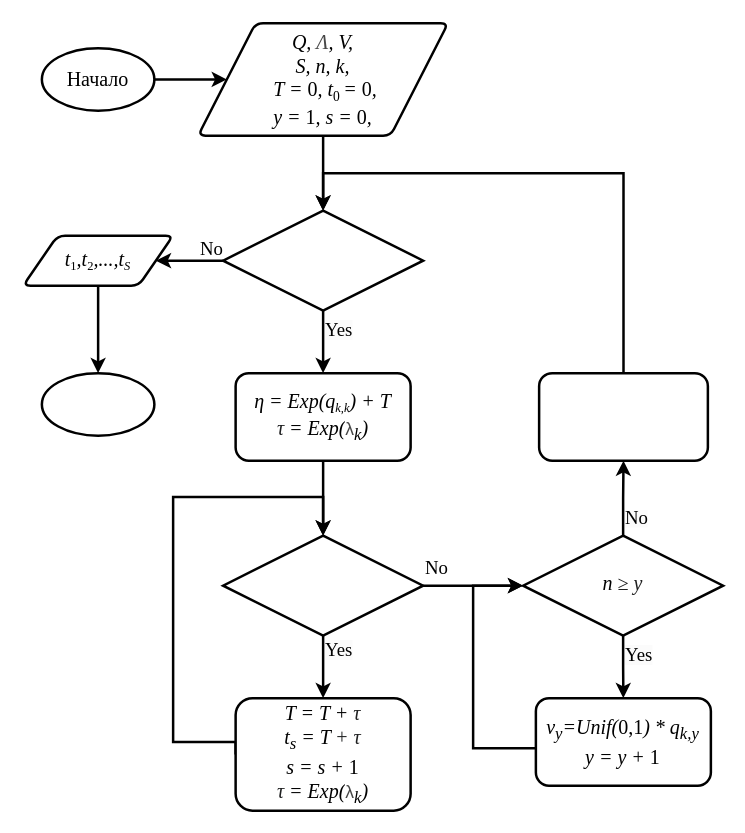
This 745x833 diagram has some shape labels left out. The shapes that lost their labels are listed below. From the top down, each one's centre as x and y in pixels, then its label:
point (322, 260): S ≥ s
point (97, 403): Конец
point (622, 416): T = η k = max(V ) y =1
point (322, 585): S ≥ s and T + τ < η
